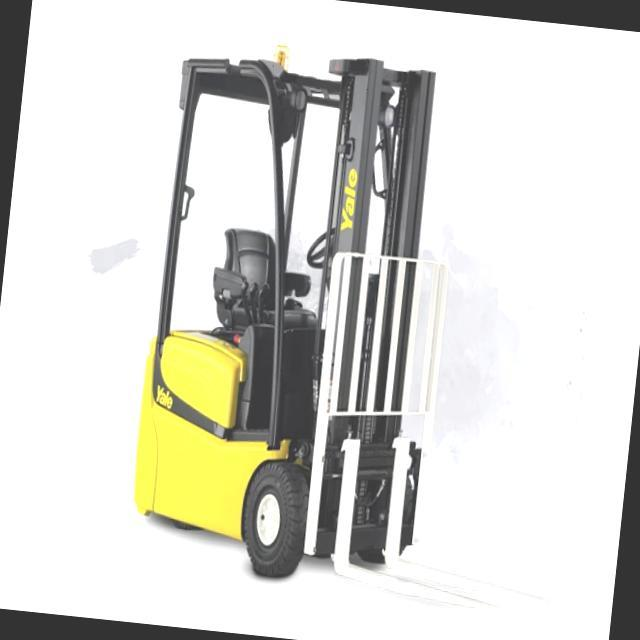forklift: (110, 14, 497, 606)
